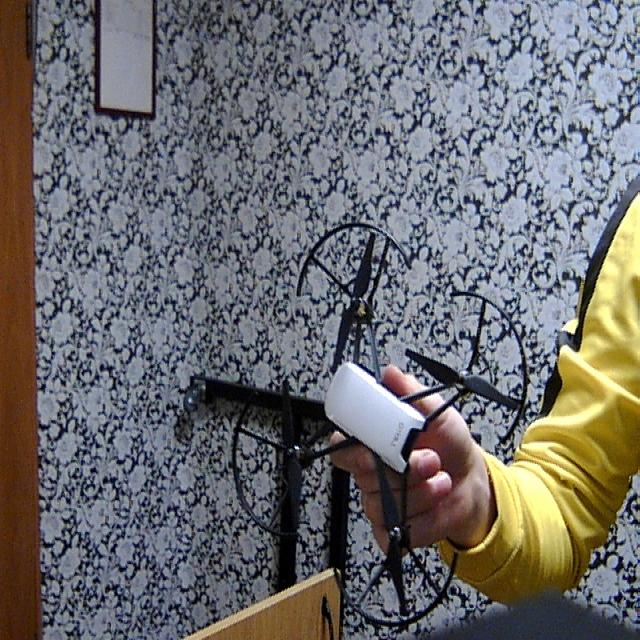drone: (228, 211, 536, 629)
